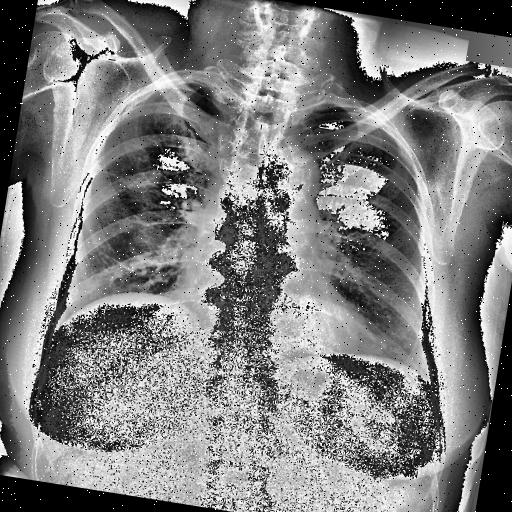0- Aortic enlargement: (252, 138, 331, 222), (259, 141, 324, 198), (272, 146, 324, 208)
11- Pleural thickening: (360, 110, 394, 134), (173, 72, 212, 90)
13- Pulmonary fibrosis: (100, 248, 146, 277), (102, 253, 140, 276), (94, 164, 124, 180), (98, 166, 122, 178)
